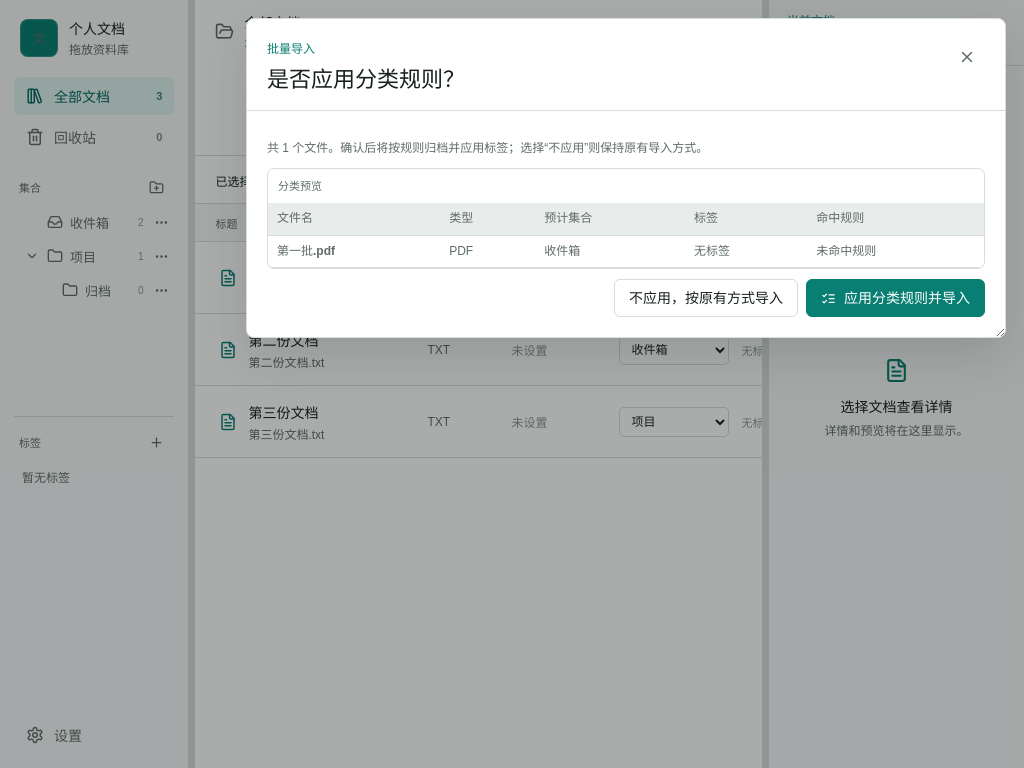
Test: 资料库拖放 › blocks a second import batch without replacing the visible progress
Click the button "不应用，按原有方式导入". click: {"x": 706, "y": 298}
box: [614,279,798,317]
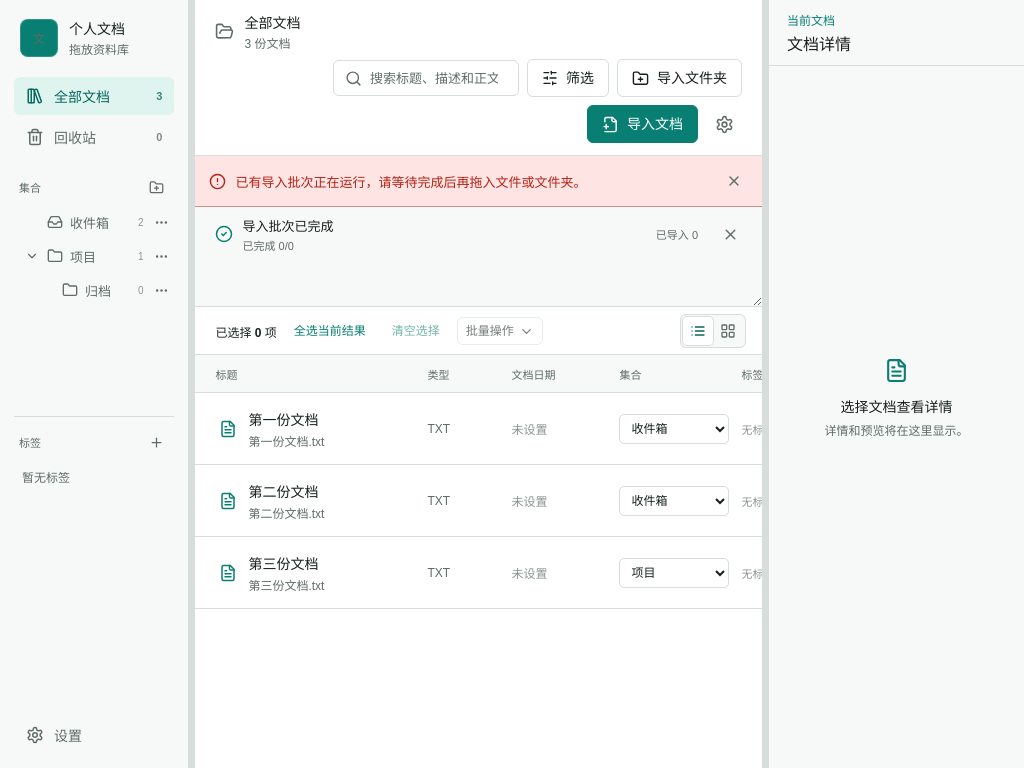
Expected: the text "已有导入批次正在运行，请等待完成后再拖入文件或文件夹。" is shown, [235,174,586,190]
Expected: the element named "批量导入进度" is shown, [195,207,762,307]
Expected: the text "导入批次已完成" is shown, [242,216,333,234]
